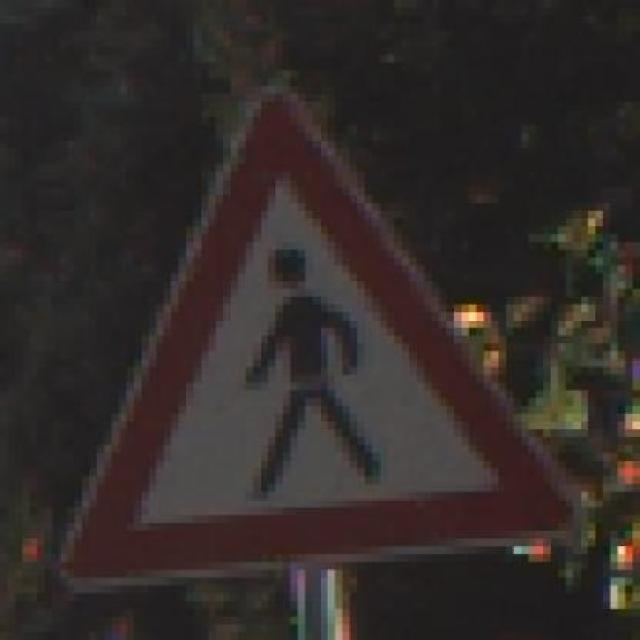Pedestrian Crossing: (51, 55, 588, 593)
